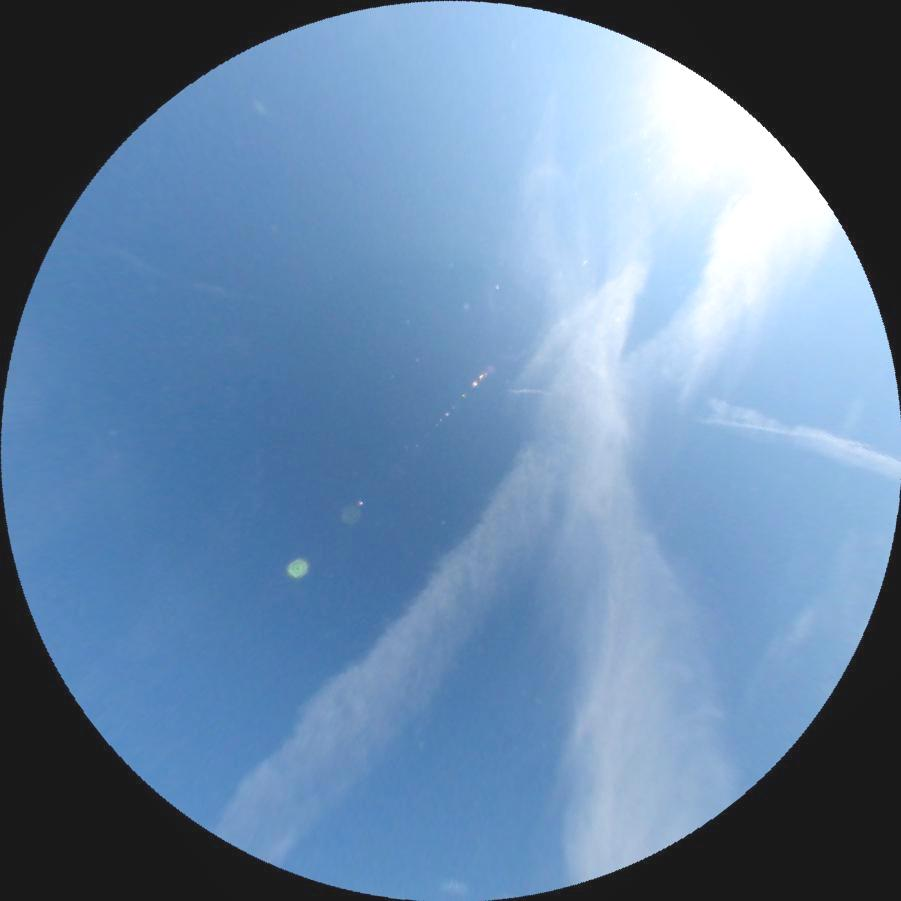contrail old: (508, 384, 799, 441)
contrail veryold: (196, 147, 850, 878), (705, 394, 901, 480)
